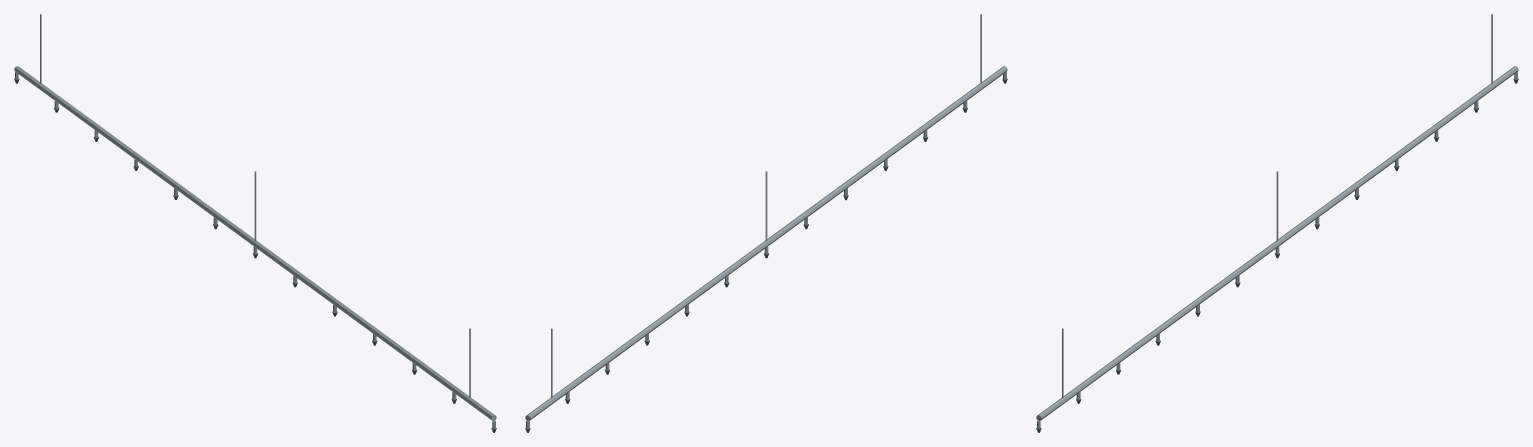
Rendered from MistingPipe.fbx.
The picture shows the model from 3 angles, left to right: view 1: azimuth 30°, elevation 25°; view 2: azimuth 150°, elevation 25°; view 3: azimuth 330°, elevation 25°; orthographic projection.
Parts seen in each view (by area): view 1: MistingPipe; view 2: MistingPipe; view 3: MistingPipe.
Part boxes in pixels (x1,y1,x2,y2): MistingPipe: [14, 14, 496, 432]; MistingPipe: [525, 14, 1007, 432]; MistingPipe: [1036, 14, 1518, 432].
Size of the model in its own units: 0.04 by 0.6 by 6.04.
